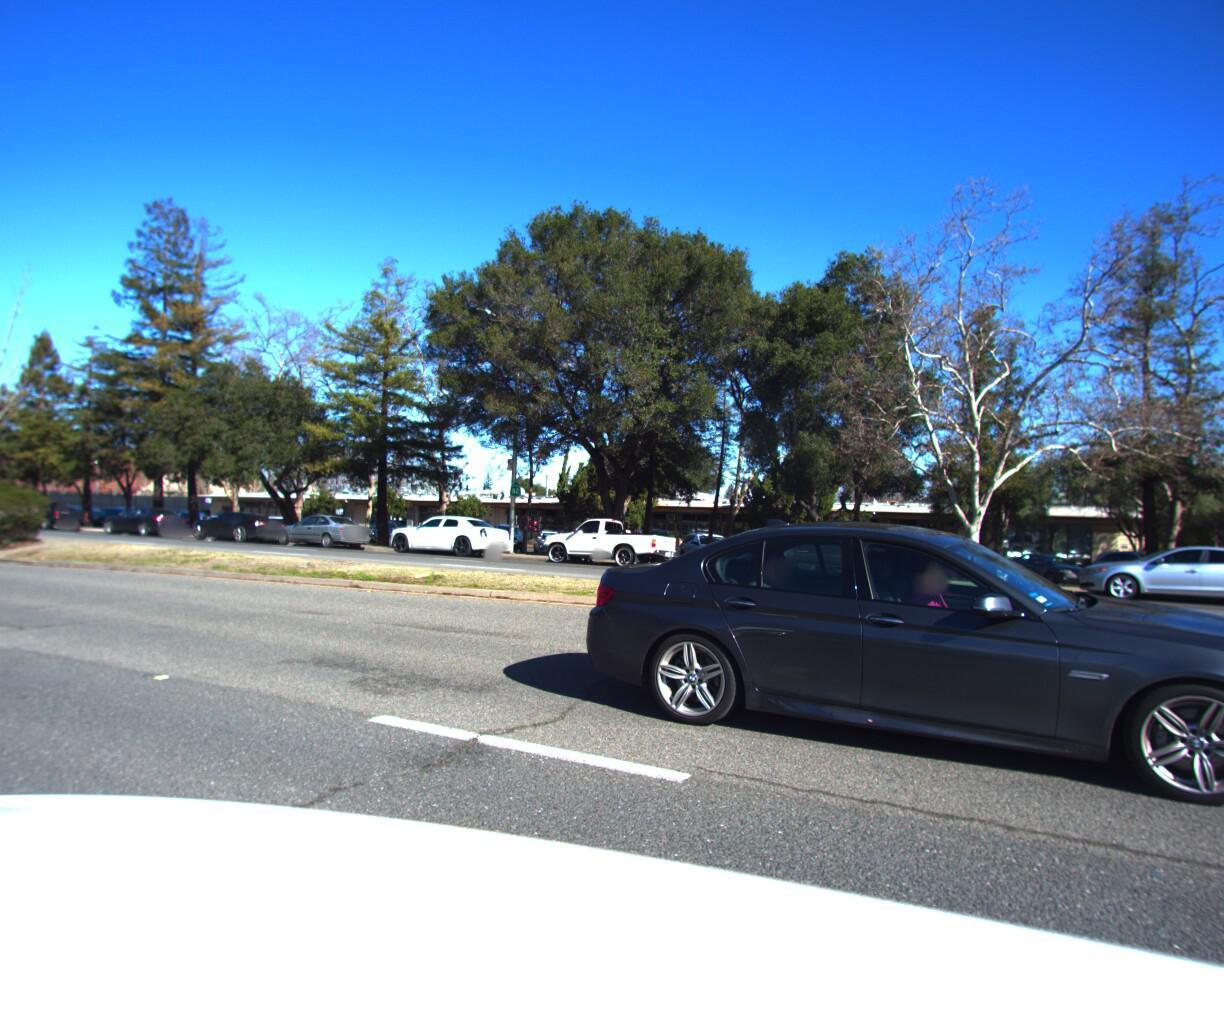car: (556, 496, 1224, 848), (731, 513, 946, 589), (1072, 534, 1224, 614), (531, 509, 683, 569), (380, 505, 521, 557), (267, 507, 377, 548), (188, 505, 291, 541), (93, 501, 190, 536), (6, 496, 91, 527)
